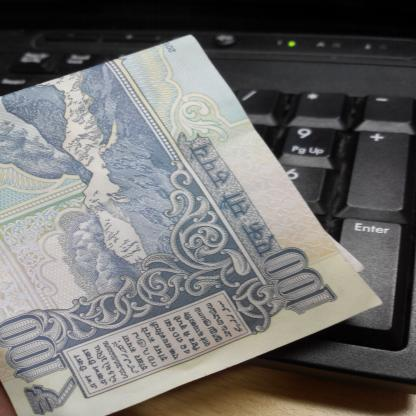Old100Back: (0, 32, 385, 415)
